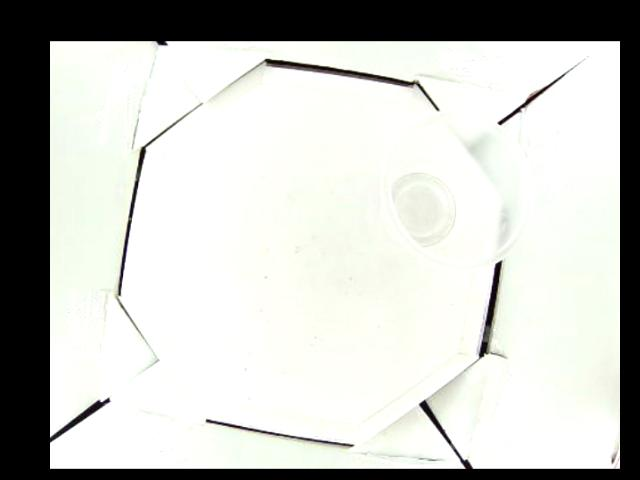Cup: (381, 108, 533, 269)
